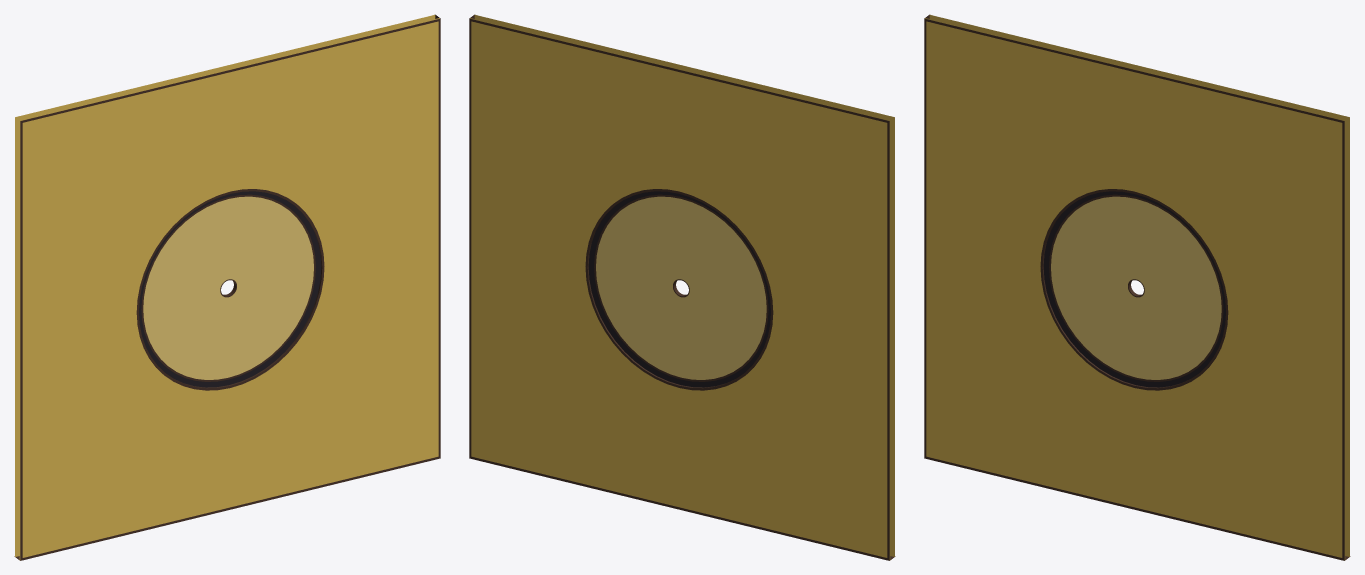
File: Yellow.obj
3 renders of one model, left to right at view 1: azimuth 30°, elevation 25°; view 2: azimuth 150°, elevation 25°; view 3: azimuth 330°, elevation 25°, orthographic.
Visible parts, largest first — view 1: Sleeve, Record; view 2: Sleeve, Record; view 3: Sleeve, Record.
Boxes of the visible parts, box(x1,y1,x2,y2) form: Sleeve: box(14, 14, 440, 560); Record: box(139, 191, 321, 387); Sleeve: box(469, 14, 895, 560); Record: box(588, 191, 770, 387); Sleeve: box(924, 14, 1350, 560); Record: box(1043, 191, 1225, 387).
Size of the model in its own units: 0.188 by 0.188 by 0.0048.
